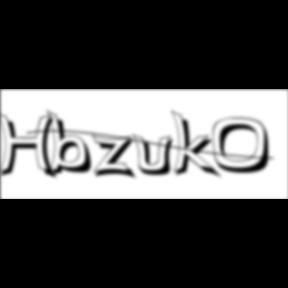H: (0, 112, 62, 182)
O: (212, 117, 278, 176)
b: (46, 109, 100, 179)
k: (170, 108, 224, 181)
u: (132, 132, 180, 178)
z: (92, 134, 140, 182)
